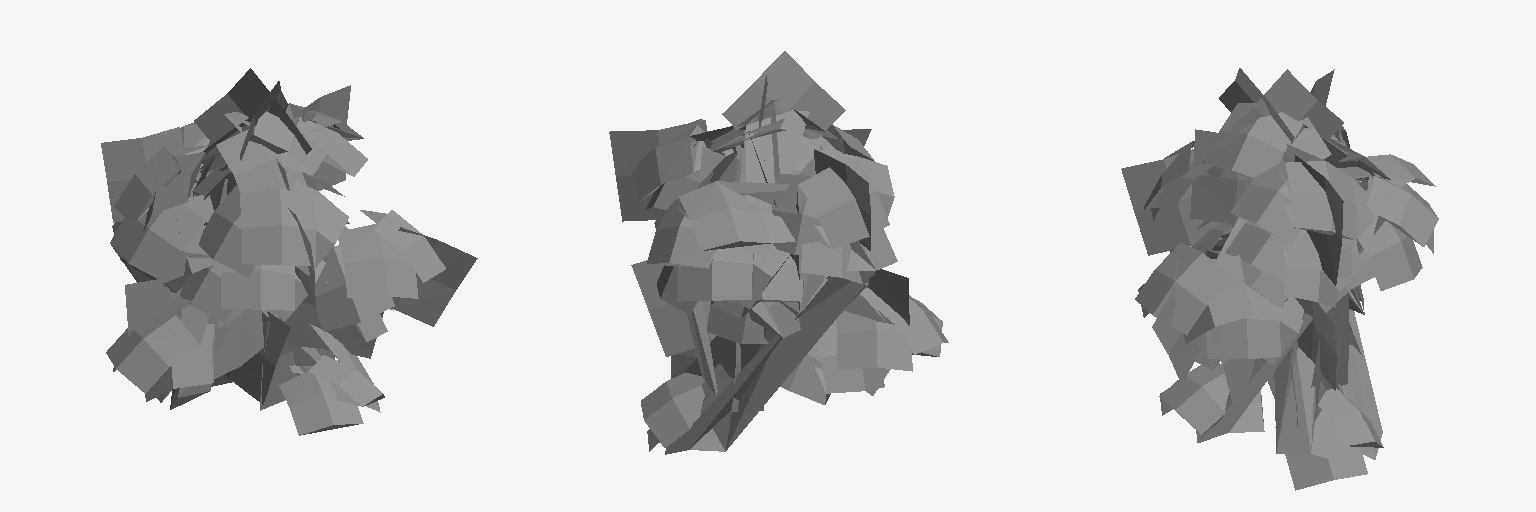
Rendered from Tree_Type5.obj.
3 views of the same model, side by side, from view 1: azimuth 30°, elevation 25°; view 2: azimuth 150°, elevation 25°; view 3: azimuth 270°, elevation 25° (orthographic).
Parts seen in each view (by area): view 1: polySurface2365, polySurface2327; view 2: polySurface2365, polySurface2327; view 3: polySurface2365, polySurface2327.
Part boxes in pixels (x1,y1,x2,y2): polySurface2365: (101, 68, 477, 435); polySurface2327: (111, 103, 393, 435); polySurface2365: (609, 51, 948, 453); polySurface2327: (631, 100, 938, 454); polySurface2365: (1121, 68, 1438, 490); polySurface2327: (1160, 115, 1437, 459).
Bounding box in the file's own units: 4.34 × 5 × 3.78.